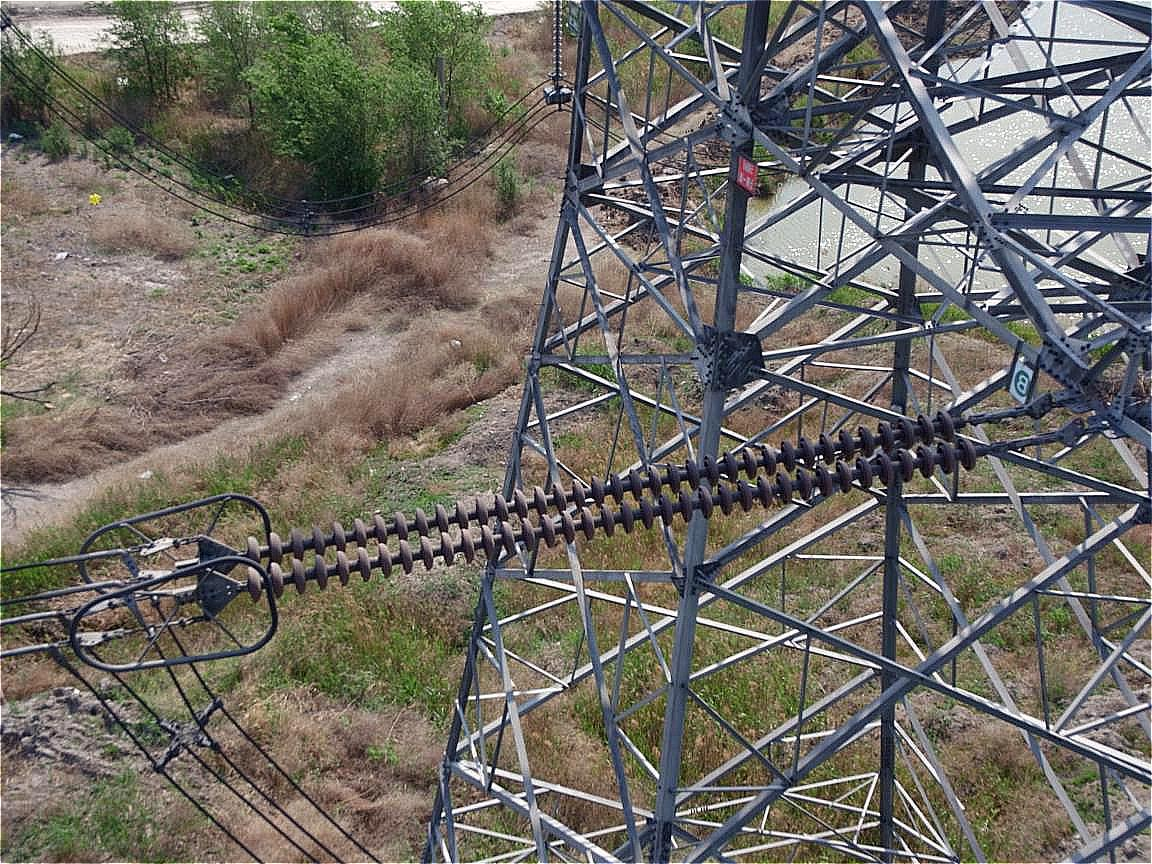insultor1: (220, 402, 994, 605)
